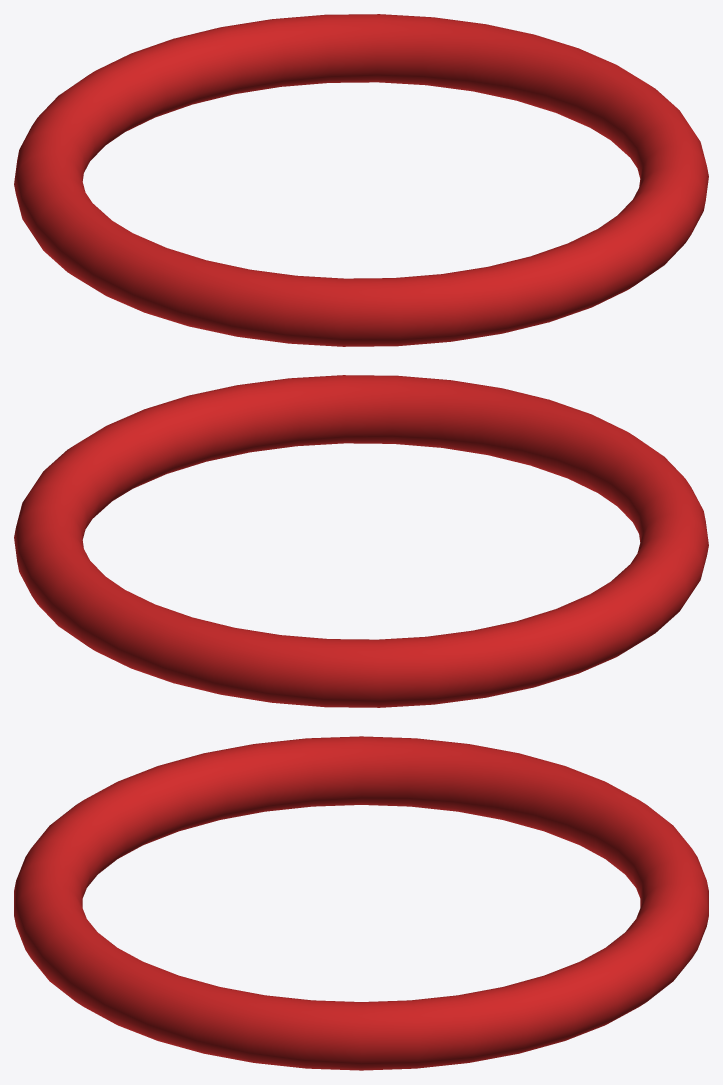
The model's file is theRIngRED.fbx.
3 views of the same model, one above another, from view 1: azimuth 30°, elevation 25°; view 2: azimuth 150°, elevation 25°; view 3: azimuth 270°, elevation 25° (orthographic).
Parts seen in each view (by area): view 1: Torus; view 2: Torus; view 3: Torus.
Boxes of the visible parts, <box> form: Torus: <box>14,14,708,346</box>; Torus: <box>14,375,708,707</box>; Torus: <box>14,736,708,1070</box>.
Bounding box in the file's own units: 426 × 41.36 × 425.
